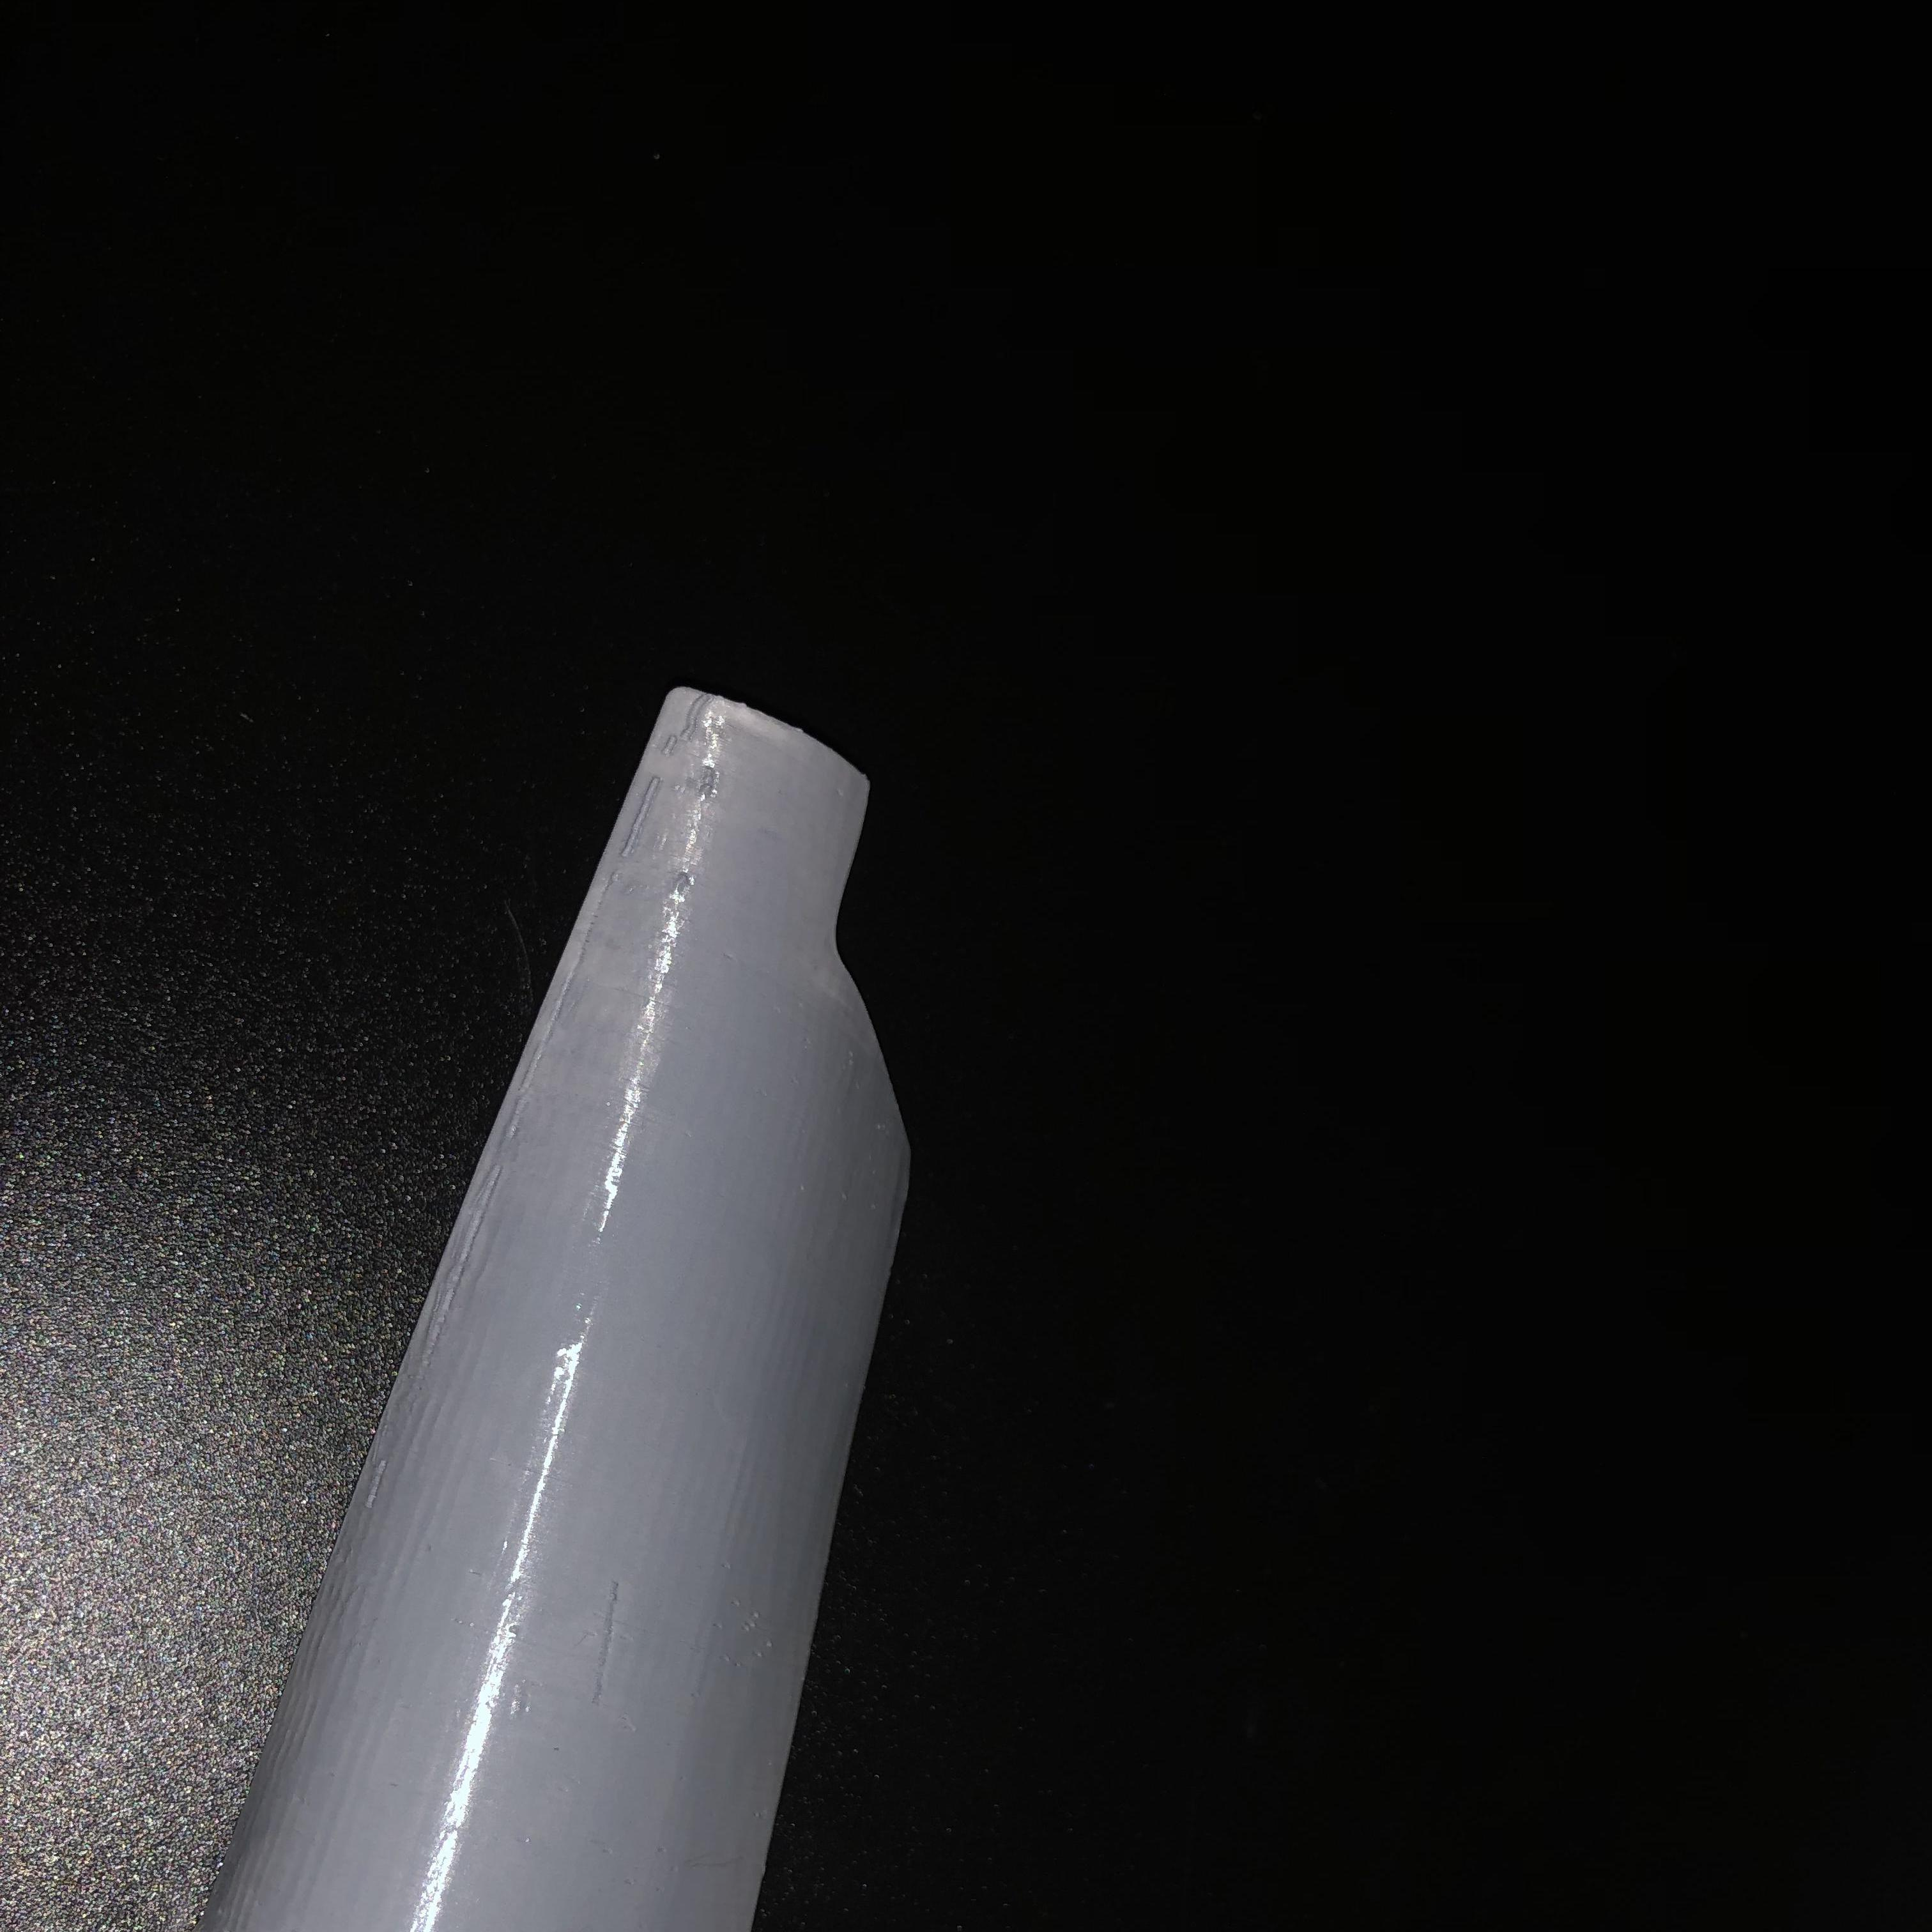fracture: (835, 778, 966, 1189)
